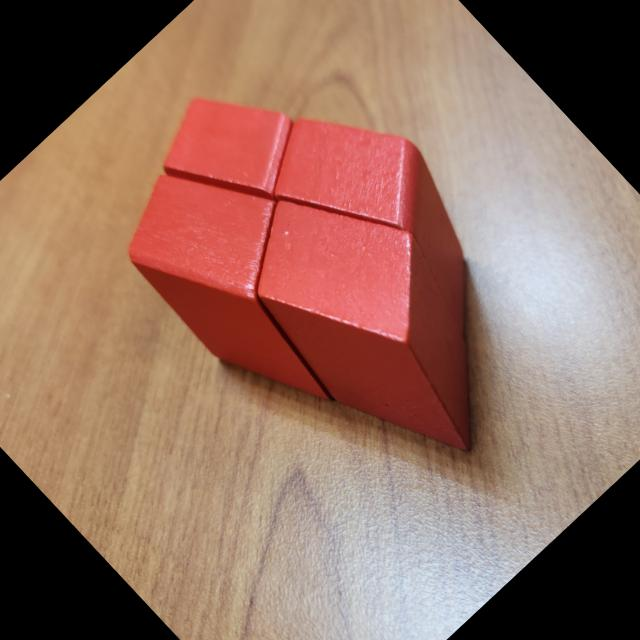red: (208, 148, 550, 496), (98, 127, 402, 437), (246, 72, 535, 368), (140, 56, 328, 245)
